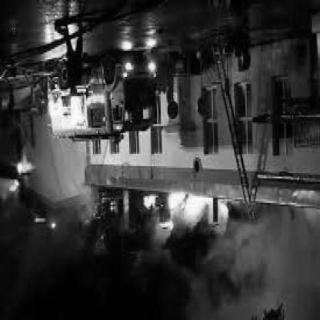Smoke: (189, 216, 315, 317)
other: (120, 62, 132, 78)
